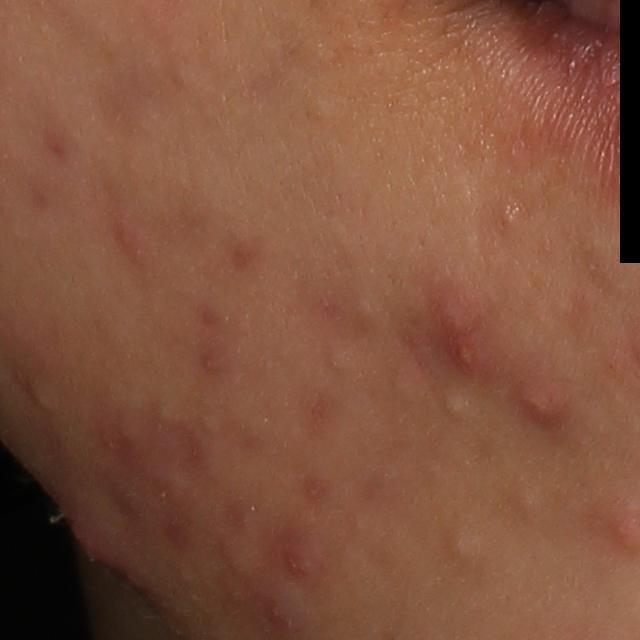comedo: (20, 373, 70, 422), (348, 291, 392, 340), (514, 478, 551, 529), (294, 85, 332, 131), (316, 341, 358, 376), (450, 525, 482, 565), (441, 390, 473, 421), (201, 410, 229, 444), (494, 204, 521, 236)
papule: (423, 284, 511, 397), (507, 359, 582, 433), (279, 515, 325, 593), (68, 510, 120, 576), (114, 212, 152, 267), (264, 595, 298, 629)
